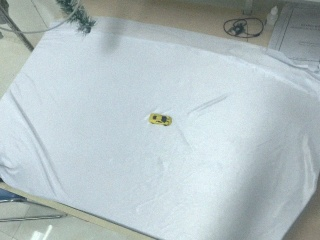toy_car: (149, 112, 173, 127)
